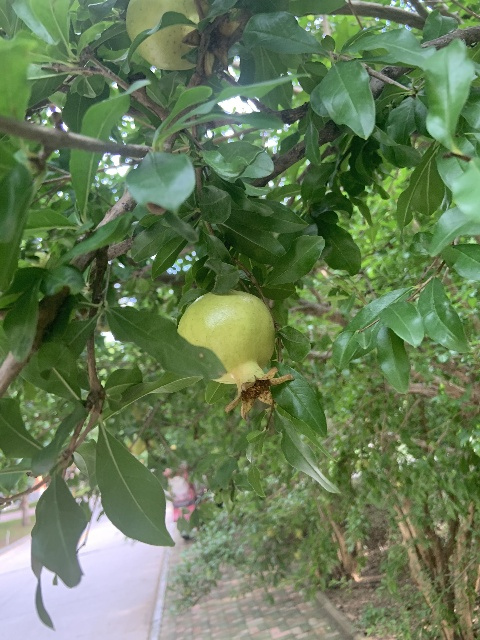mid-growth: (176, 290, 294, 418), (126, 0, 240, 77)
